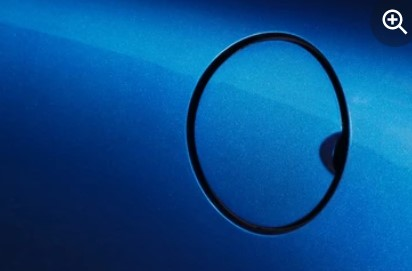closed: (182, 26, 358, 238)
